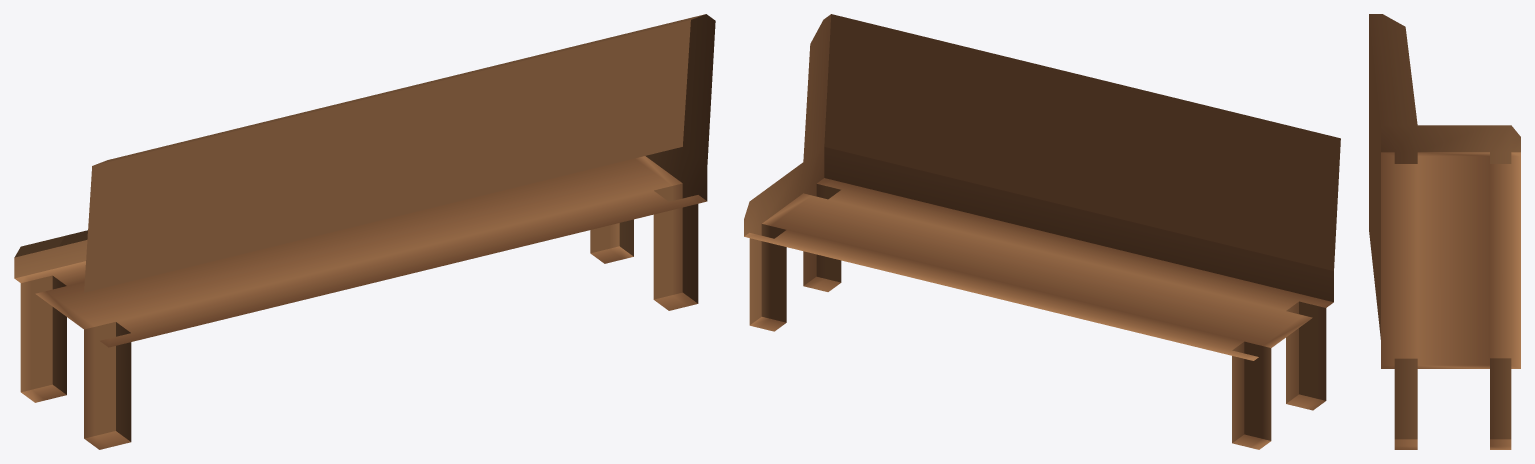
File: kursi_tunggu.glb
The picture shows the model from 3 angles, left to right: view 1: azimuth 30°, elevation 25°; view 2: azimuth 150°, elevation 25°; view 3: azimuth 270°, elevation 25°; orthographic projection. The views are drawn at different scales.
Visible parts, largest first — view 1: Plane041; view 2: Plane041; view 3: Plane041.
Part boxes in pixels (x1,y1,x2,y2): Plane041: (14,14,715,449); Plane041: (744,14,1340,449); Plane041: (1369,14,1520,449).
Bounding box in the file's own units: 1.11 × 0.522 × 0.3277.
1 material, 1 textured.
